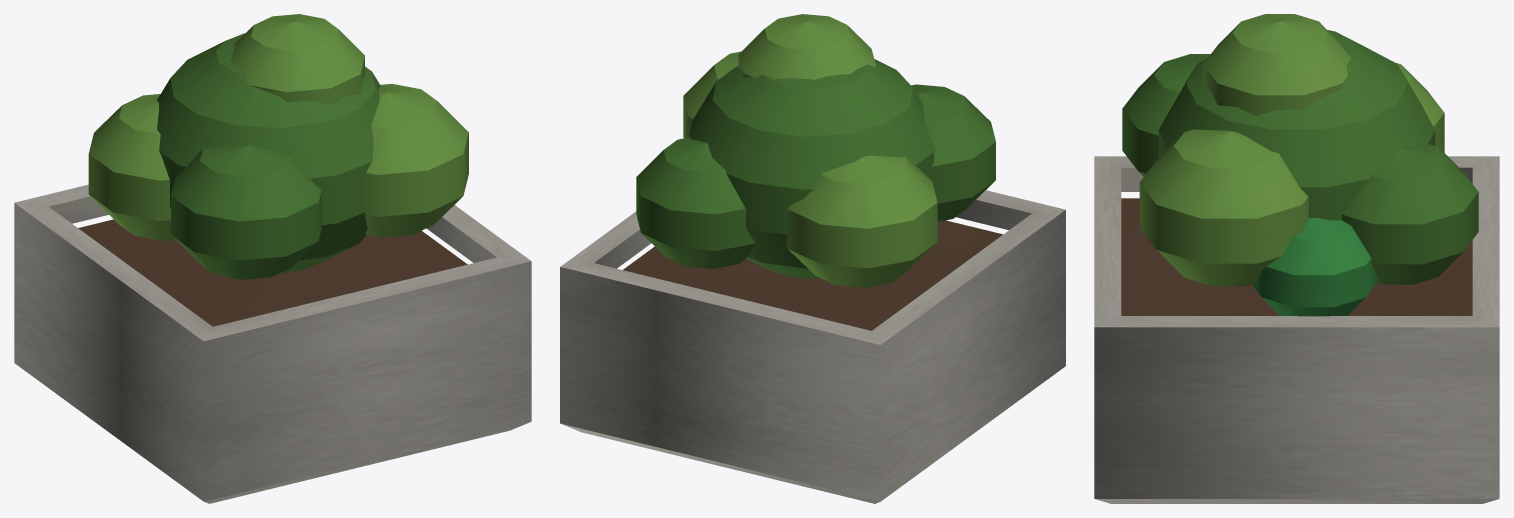
File: jardiniere_beton_lod0.glb
3 renders of one model, left to right at view 1: azimuth 30°, elevation 25°; view 2: azimuth 150°, elevation 25°; view 3: azimuth 270°, elevation 25°, orthographic. The views are drawn at different scales.
Visible parts, largest first — view 1: jardiniere_beton; view 2: jardiniere_beton; view 3: jardiniere_beton.
Part boxes in pixels (x1,y1,x2,y2): jardiniere_beton: (14, 14, 531, 503); jardiniere_beton: (560, 14, 1065, 503); jardiniere_beton: (1094, 14, 1499, 503).
Size of the model in its own units: 1.2 by 1.34 by 1.2.
1 material, 1 textured.
